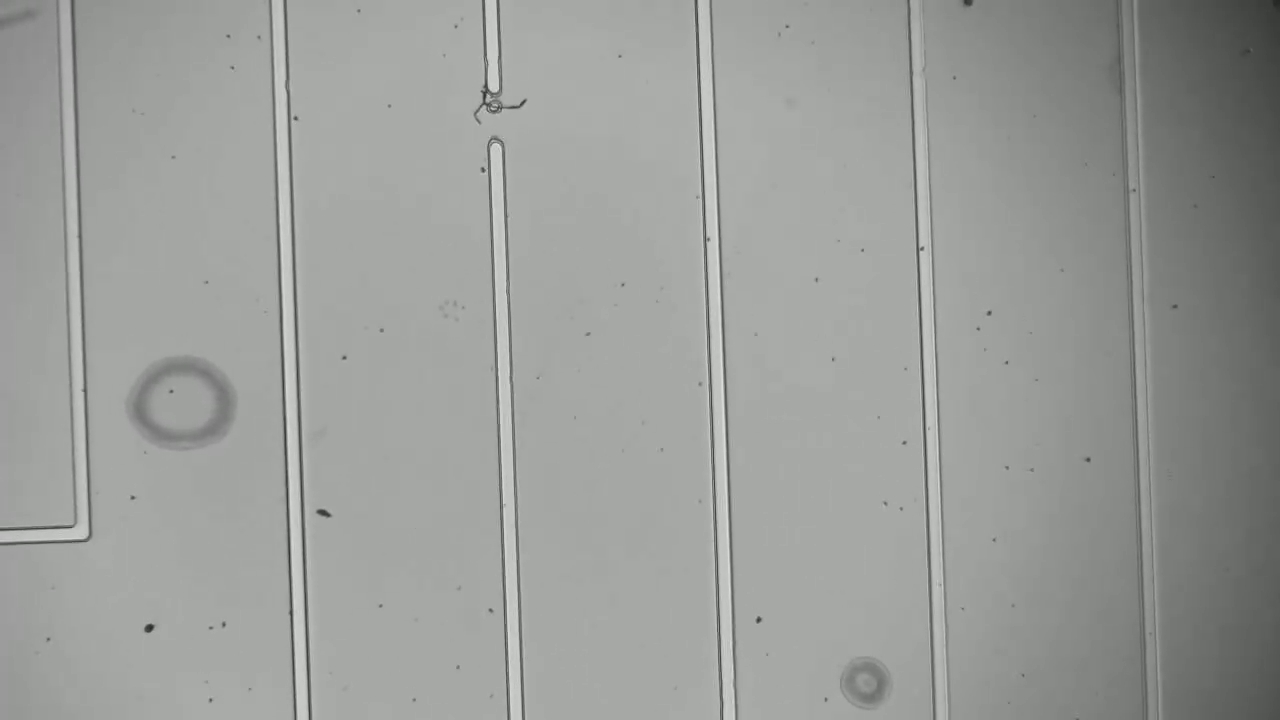open: (457, 67, 538, 158)
